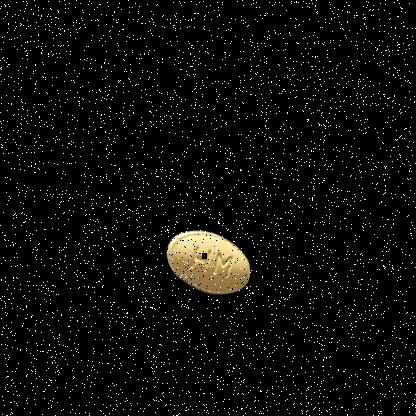tovast10: (157, 214, 271, 315)
